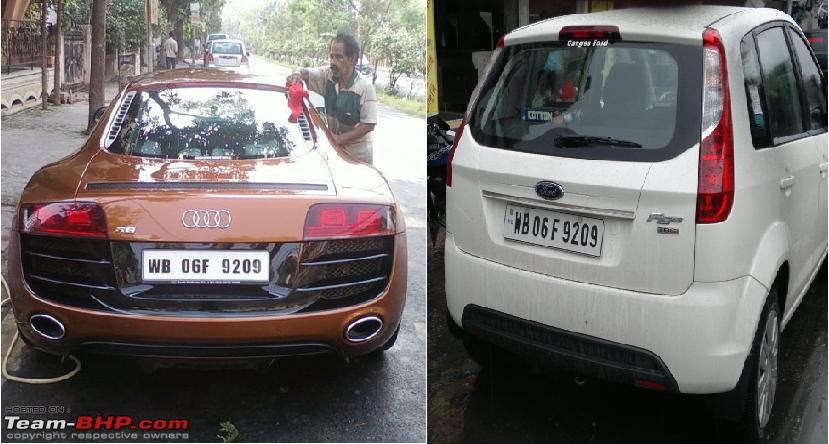number_plate: (137, 241, 274, 294)
